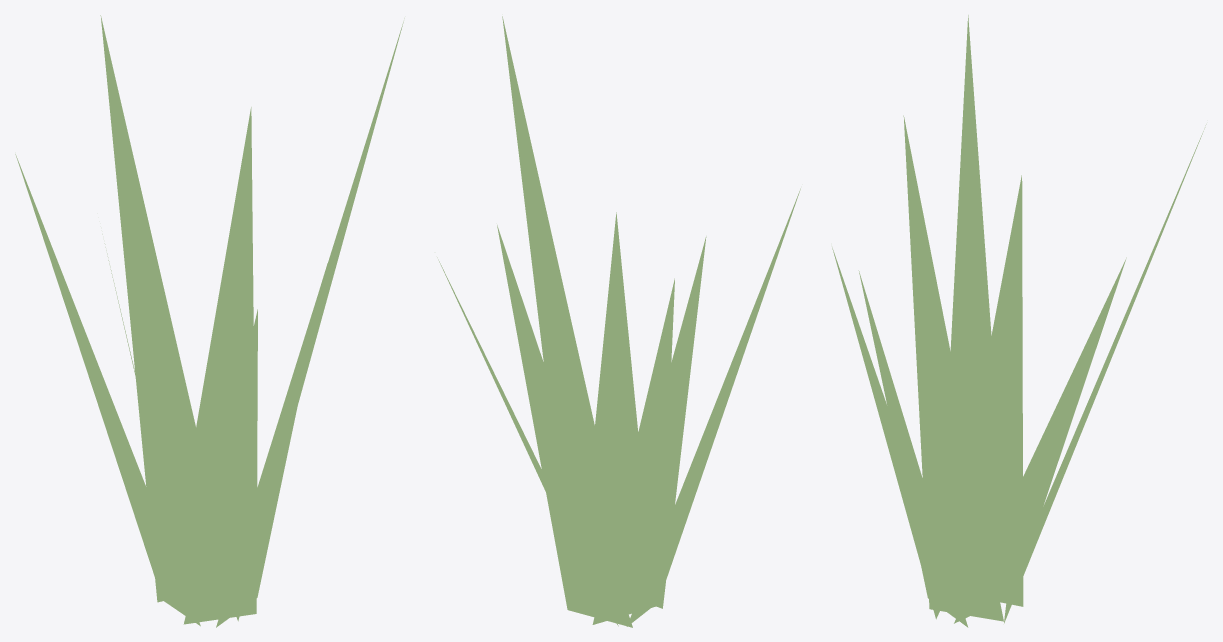
3 renders of one model, left to right at view 1: azimuth 30°, elevation 25°; view 2: azimuth 150°, elevation 25°; view 3: azimuth 270°, elevation 25°, orthographic. The views are drawn at different scales.
Visible parts, largest first — view 1: SC_PlateauGrassDeep; view 2: SC_PlateauGrassDeep; view 3: SC_PlateauGrassDeep.
Part boxes in pixels (bbox=[...]): SC_PlateauGrassDeep: bbox=[15, 15, 404, 627]; SC_PlateauGrassDeep: bbox=[437, 16, 800, 627]; SC_PlateauGrassDeep: bbox=[832, 15, 1206, 627].
Bounding box in the file's own units: 0.6943 × 1.07 × 0.6455.
